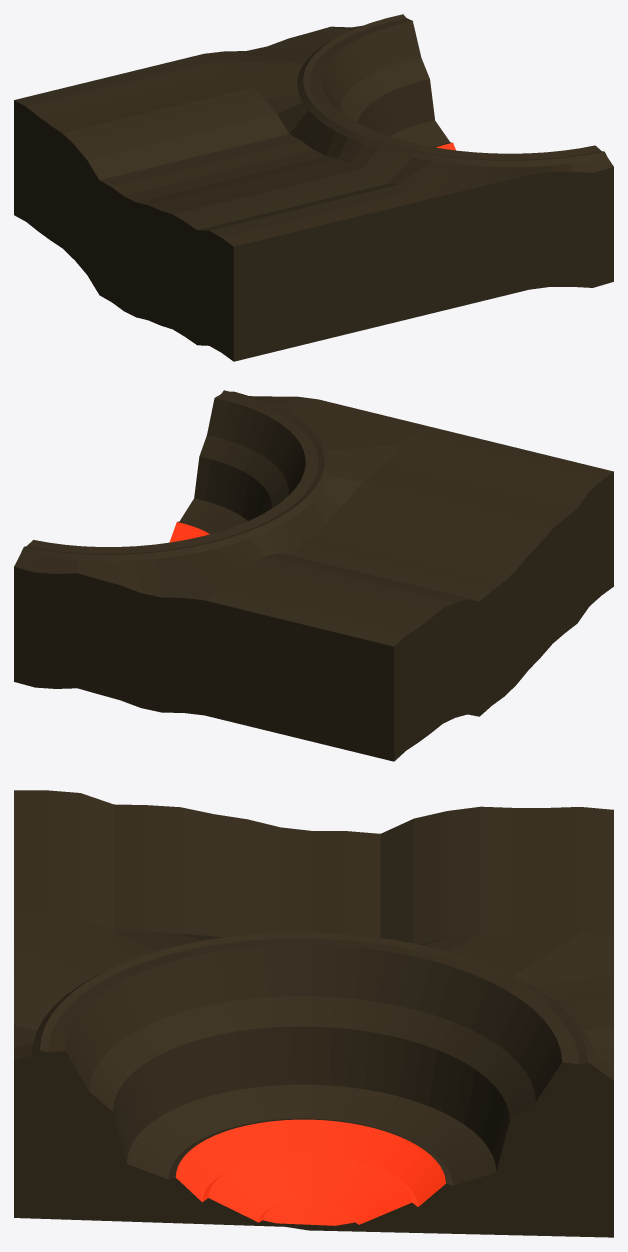
The model's file is Pit Tile Final Left.fbx.
3 views of the same model, one above another, from view 1: azimuth 30°, elevation 25°; view 2: azimuth 150°, elevation 25°; view 3: azimuth 270°, elevation 25° (orthographic). The views are drawn at different scales.
Parts seen in each view (by area): view 1: Left Pit Tile; view 2: Left Pit Tile; view 3: Left Pit Tile.
Boxes of the visible parts, bbox=[...] form: Left Pit Tile: bbox=[14, 14, 613, 361]; Left Pit Tile: bbox=[14, 390, 613, 761]; Left Pit Tile: bbox=[14, 790, 613, 1237].
Size of the model in its own units: 200 by 73.73 by 200.
